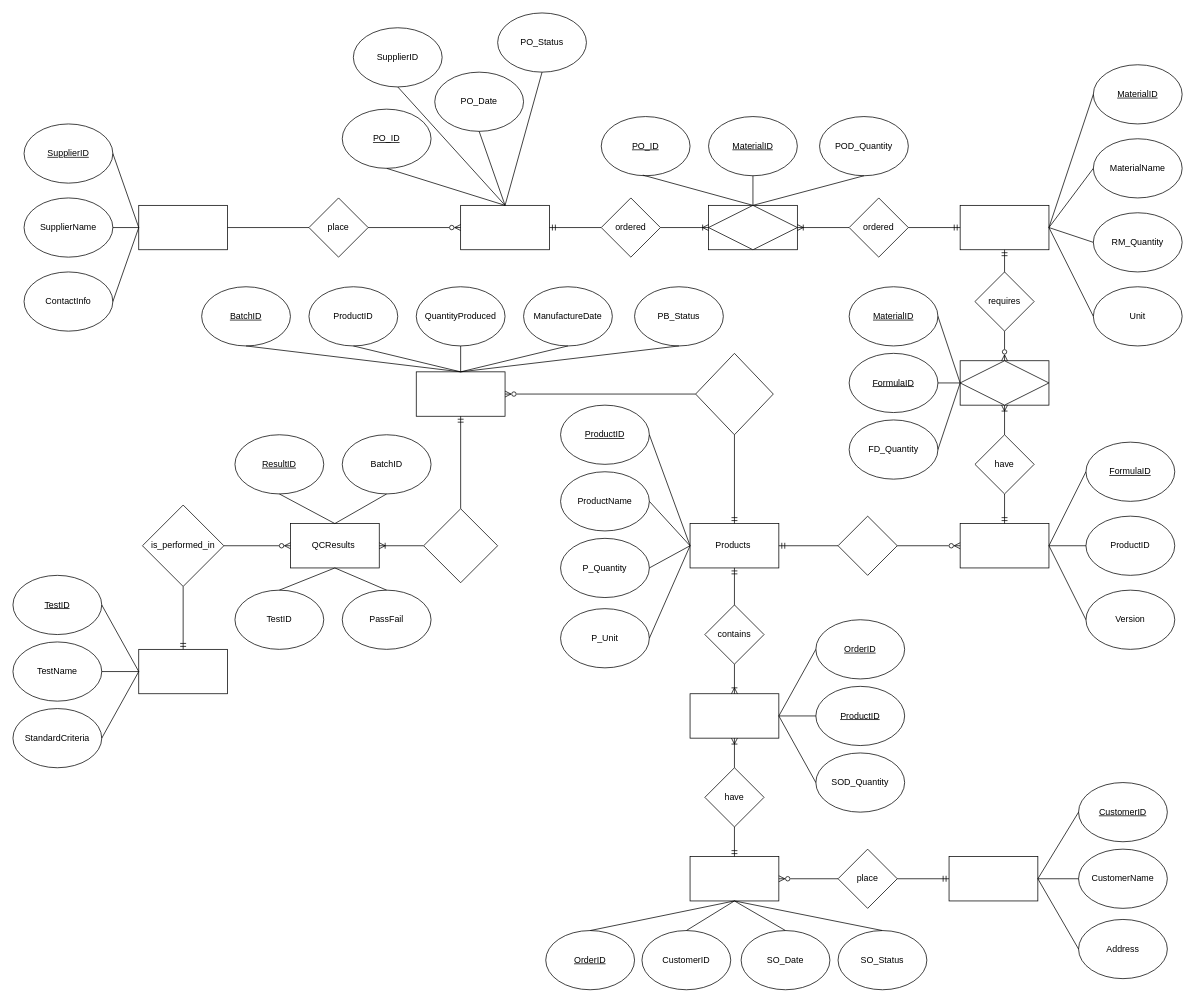
The diagram is 1195 pixels wide and 1003 high, and some of its shapes have lost their labels. The shapes that lost their labels are listed below. From the top down, each one's centre as x and y in pixels, then its label:
the point at 183,227: Suppliers
the point at 504,227: PurchaseOrders
the point at 752,227: Purchase OrderDetails
the point at 1004,227: RawMaterials
the point at 460,393: ProductionBatches
the point at 734,394: is_produced_in
the point at 1004,382: FormulaDetails
the point at 460,545: is_tested_by
the point at 867,545: has
the point at 1004,545: Formulas
the point at 183,671: QCTests
the point at 734,715: SalesOrderDetails
the point at 734,878: SalesOrders
the point at 993,878: Customers
